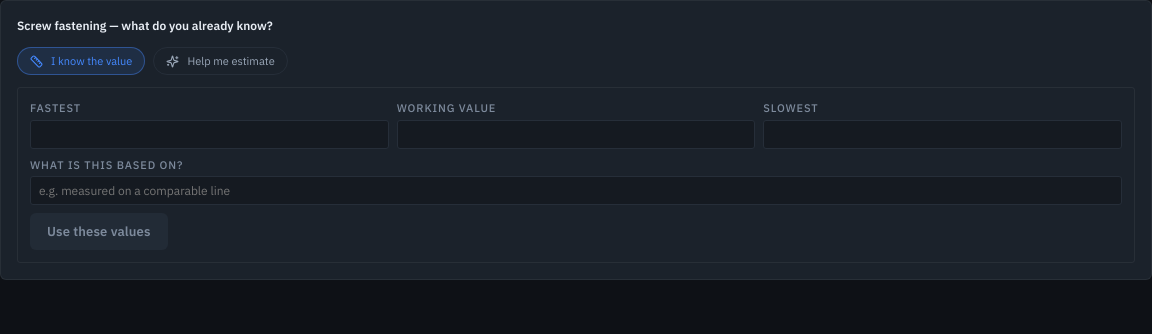
Test: the estimator opens on the reviewed operation › says where the count came from, rather than leaving it unexplained
Click the tab with test id "estimate-mode-assist" at (221, 61), box top-left (153, 47), bottom-right (288, 75)
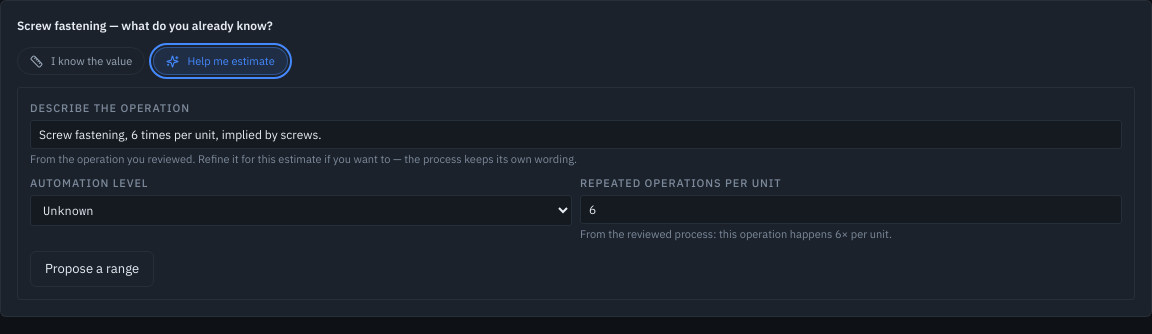
Result: the text with test id "estimate-operations-source" shows "reviewed process" at top-left (580, 227), bottom-right (892, 241)
